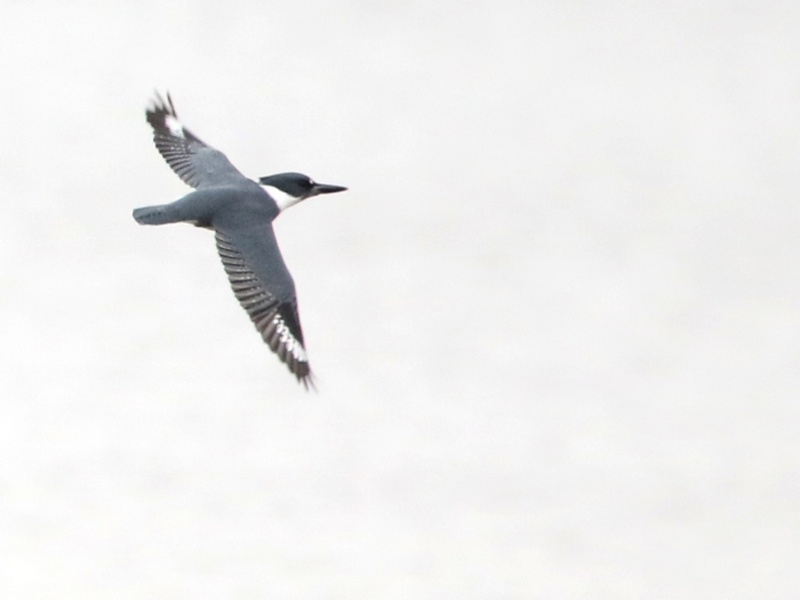kingfisher: (129, 86, 348, 392)
